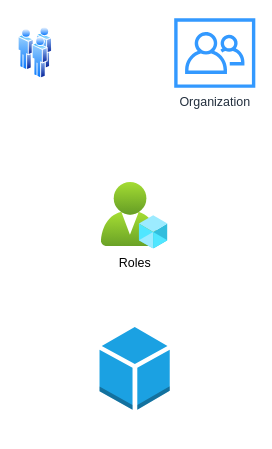
The diagram is 272 pixels wide and 449 high, and some of its shapes have lost their labels. The box of each missing label's shape, as (x1, y1, x2, y2) in pixels:
Resources: (98, 326, 170, 410)
Users: (18, 27, 52, 79)
